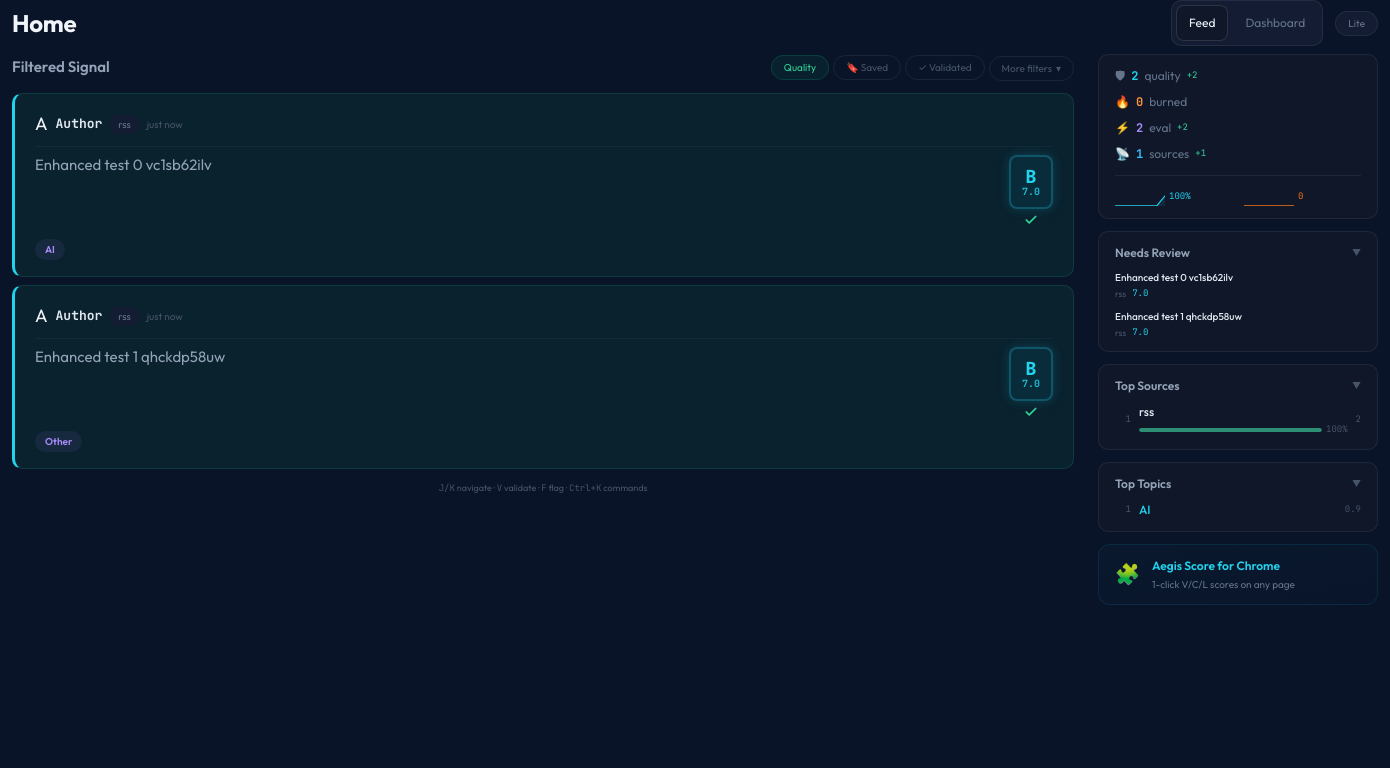
Test: Sidebar — Topic filter chip in filter bar › shows active topic chip when topic filter is active
The image size is (1390, 768).
// Activate topic filter via sidebar
What coordinates should you click on to do the following:
click the button "1 AI 0.9"
I would click on:
 (1238, 510)
Its box is [1115,500,1361,518].
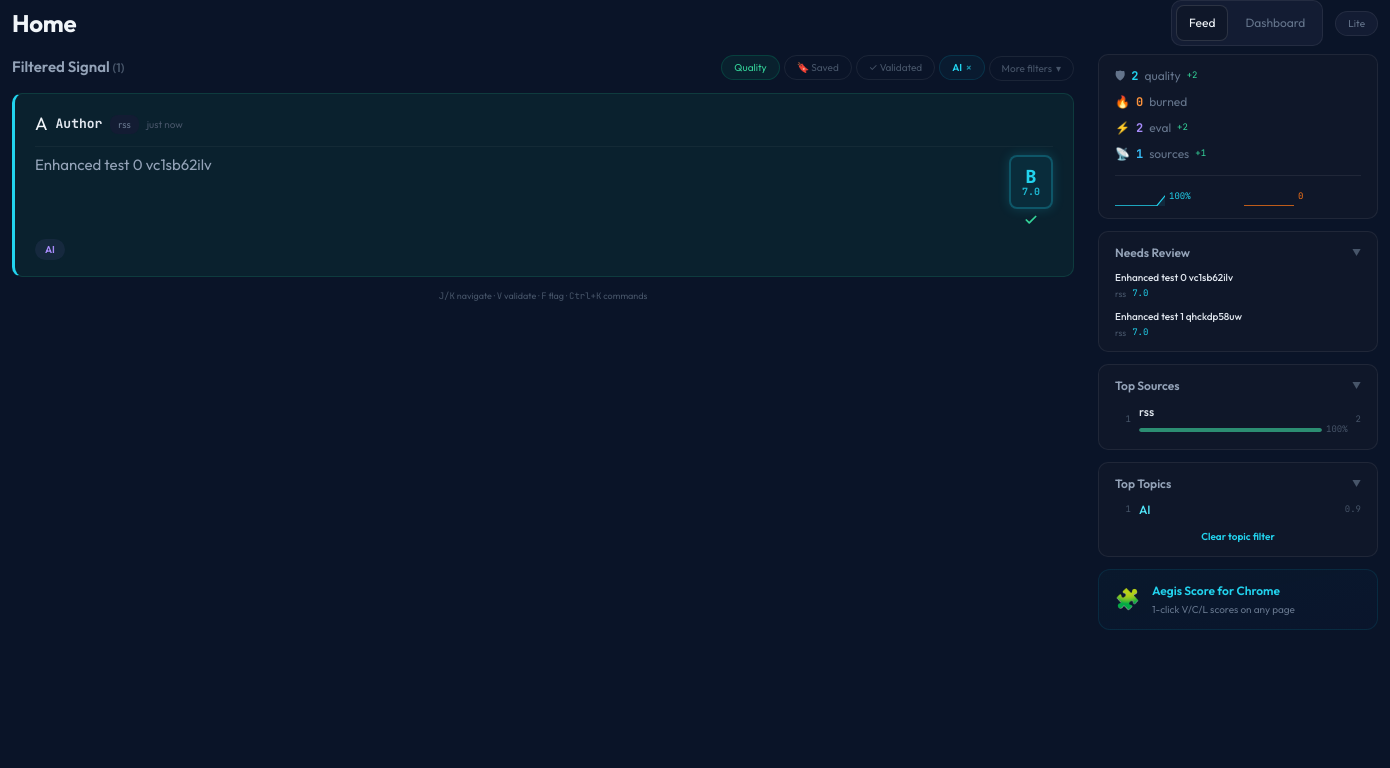
expect the button with test id "aegis-filter-topic-active" shows "AI": met, box [939,55,985,80]
